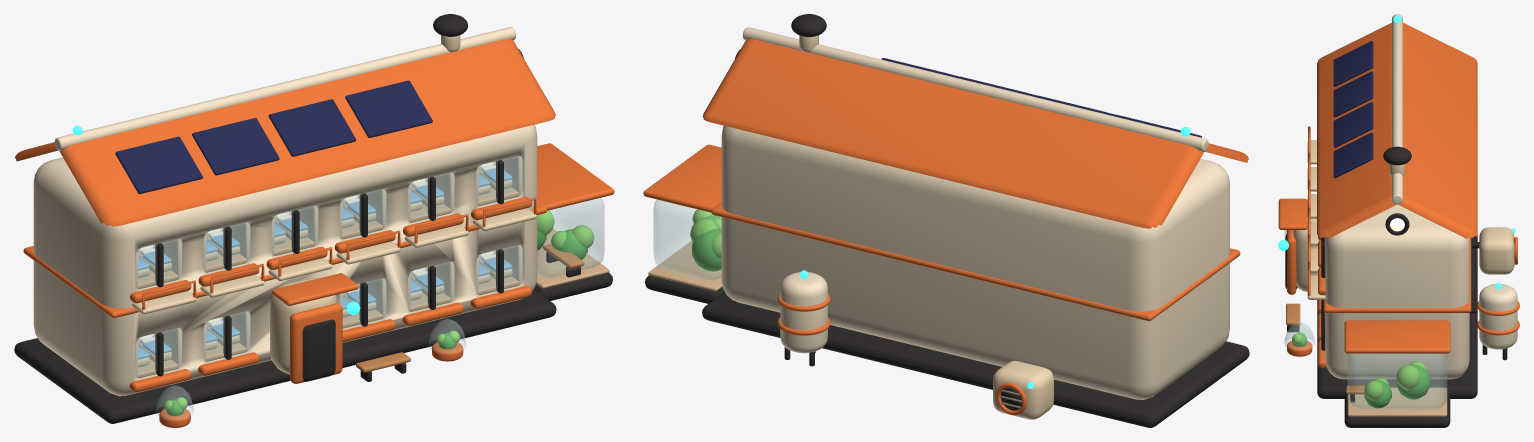
File: home-b-20.glb
The picture shows the model from 3 angles, left to right: view 1: azimuth 30°, elevation 25°; view 2: azimuth 150°, elevation 25°; view 3: azimuth 270°, elevation 25°; orthographic projection. The views are drawn at different scales.
Visible parts, largest first — view 1: Cube.001, Cube.156, Cube, Cylinder, Cube.173, Cube.157, Cube.158, Cube.160, Cube.159, Cube.174, Cube.153, Cube.152 (+37 smaller); view 2: Cube.001, Cube.156, Cube, Cylinder, Cube.173, Cube.002, Cube.174, Cylinder.007, Cube.161, Cube.169, Cube.168, Sphere.024 (+1 smaller); view 3: Cube.156, Cube.001, Cube.173, Cube.174, Cube, Cube.169, Cylinder.007, Cylinder, Cube.161, Cube.168, Cube.157, Cube.158 (+17 smaller).
Part boxes in pixels (left/top/right/bottom): Cube.001: left=33, top=124, right=537, bottom=396; Cube.156: left=15, top=39, right=555, bottom=226; Cube: left=14, top=289, right=556, bottom=423; Cylinder: left=54, top=27, right=515, bottom=150; Cube.173: left=537, top=198, right=604, bottom=278; Cube.157: left=115, top=136, right=202, bottom=194; Cube.158: left=192, top=118, right=279, bottom=175; Cube.160: left=345, top=80, right=432, bottom=137; Cube.159: left=268, top=99, right=356, bottom=156; Cube.174: left=537, top=143, right=614, bottom=210; Cube.153: left=290, top=303, right=342, bottom=383; Cube.152: left=270, top=277, right=336, bottom=374; Cube.001: left=721, top=125, right=1229, bottom=399; Cube.156: left=702, top=39, right=1248, bottom=228; Cube: left=702, top=292, right=1249, bottom=427; Cylinder: left=742, top=27, right=1208, bottom=152; Cube.173: left=653, top=199, right=721, bottom=280; Cube.002: left=711, top=202, right=1240, bottom=321; Cube.174: left=643, top=144, right=721, bottom=212; Cylinder.007: left=780, top=272, right=827, bottom=353; Cube.161: left=993, top=360, right=1053, bottom=419; Cube.169: left=648, top=241, right=722, bottom=291; Cube.168: left=645, top=275, right=724, bottom=303; Sphere.024: left=692, top=229, right=721, bottom=271; Cube.156: left=1317, top=23, right=1477, bottom=238; Cube.001: left=1325, top=204, right=1469, bottom=379; Cube.173: left=1347, top=353, right=1447, bottom=409; Cube.174: left=1344, top=320, right=1450, bottom=353; Cube: left=1317, top=235, right=1477, bottom=398; Cube.169: left=1347, top=387, right=1447, bottom=416; Cylinder.007: left=1479, top=284, right=1517, bottom=349; Cylinder: left=1392, top=14, right=1402, bottom=204; Cube.161: left=1479, top=227, right=1514, bottom=274; Cube.168: left=1344, top=392, right=1450, bottom=427; Cube.157: left=1333, top=41, right=1373, bottom=86; Cube.158: left=1333, top=71, right=1373, bottom=117.
Bounding box in the file's own units: 3.09 × 1.57 × 1.51.
